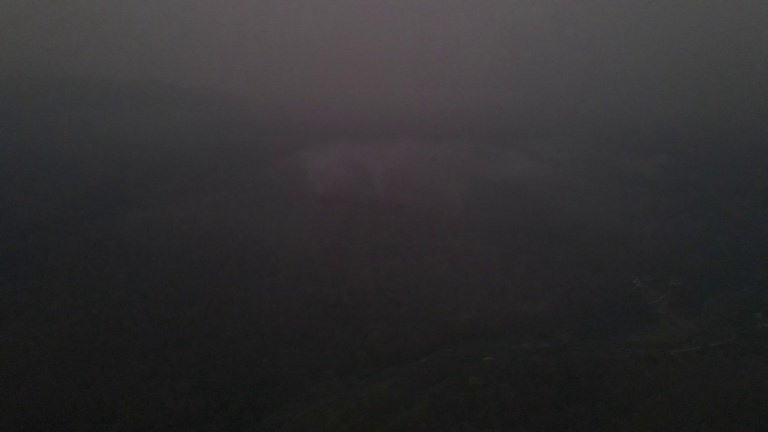smoke: (306, 139, 496, 215)
